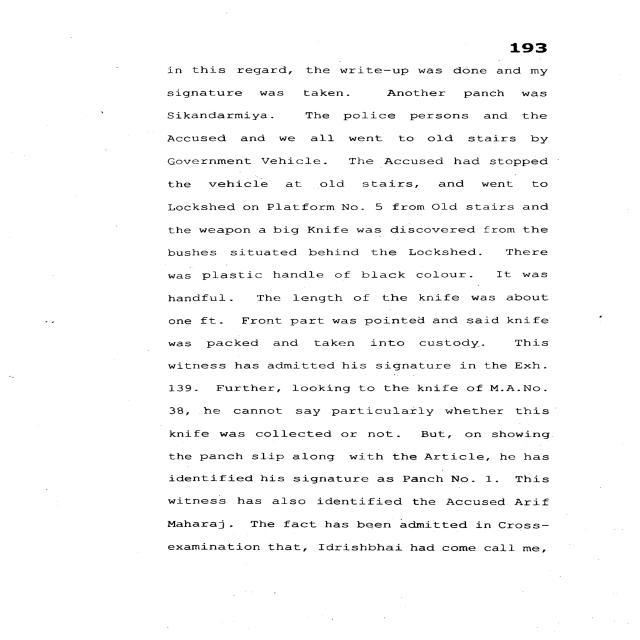page-number: (423, 0, 635, 59)
